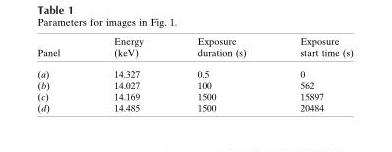table: (36, 36, 352, 112)
table column: (169, 36, 272, 112), (86, 36, 169, 112), (272, 36, 352, 112), (36, 36, 86, 112)
table column header: (36, 36, 352, 63)
table row: (36, 36, 352, 63), (36, 63, 352, 79), (36, 79, 352, 91), (36, 91, 352, 102), (36, 102, 352, 112)
